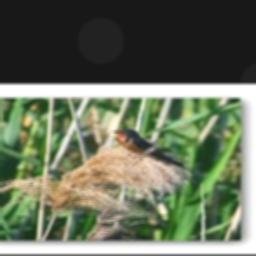Swallow: (106, 126, 192, 170)
